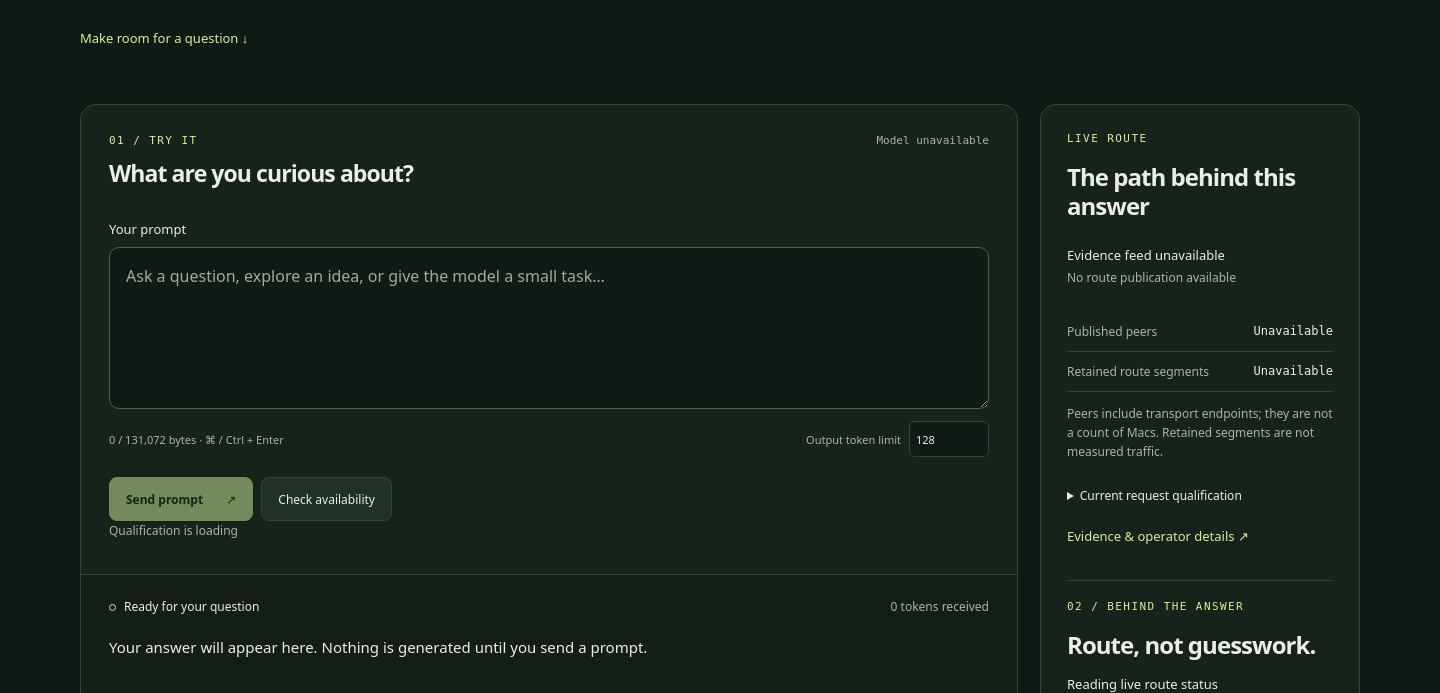
ConsumerDemoPage › does not invent cancellation success from an acknowledgement
The width and height of the screenshot is (1440, 693).
(page scrolled)
Replace the text in the text box labelled "Your prompt" with "A test-only prompt". click: (549, 328)
box: x1=109 y1=247 x2=989 y2=409
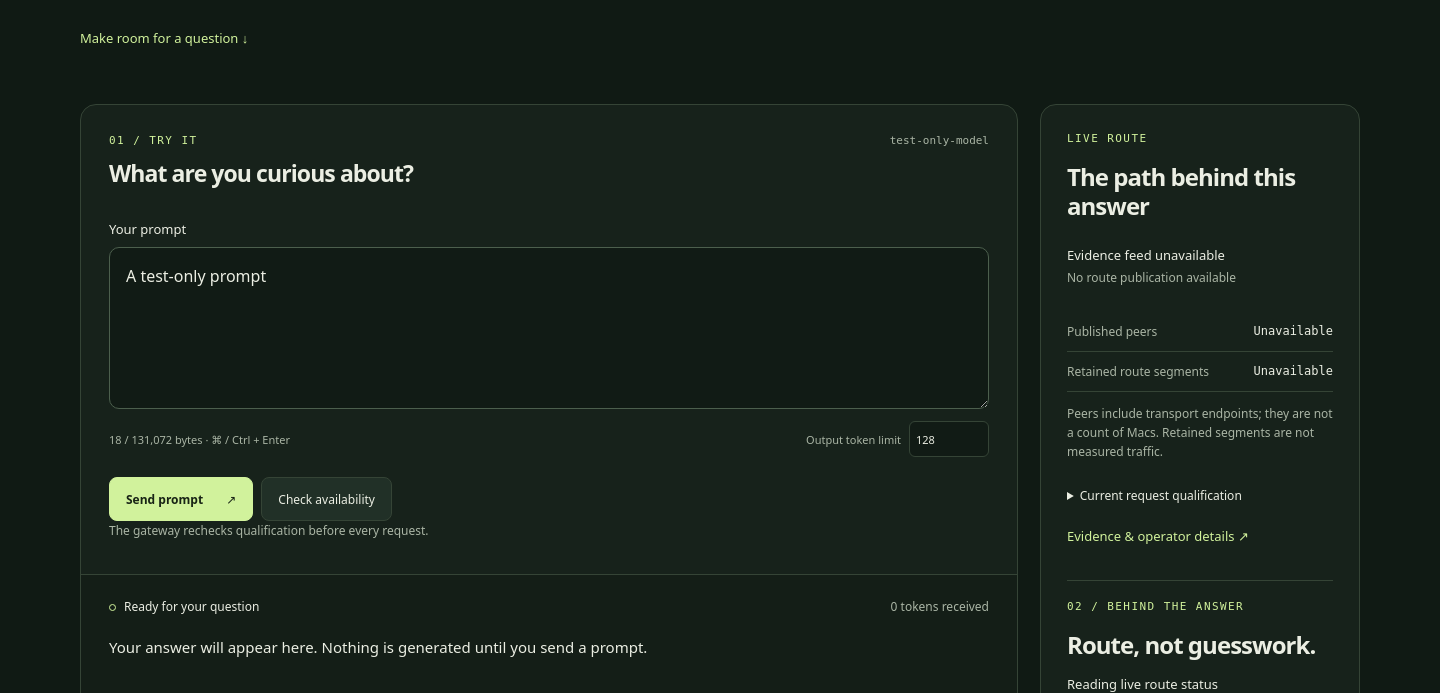
Check: the button "Send prompt ↗" is enabled
Click the button "Send prompt ↗". click: (181, 499)
box: x1=109 y1=477 x2=253 y2=521
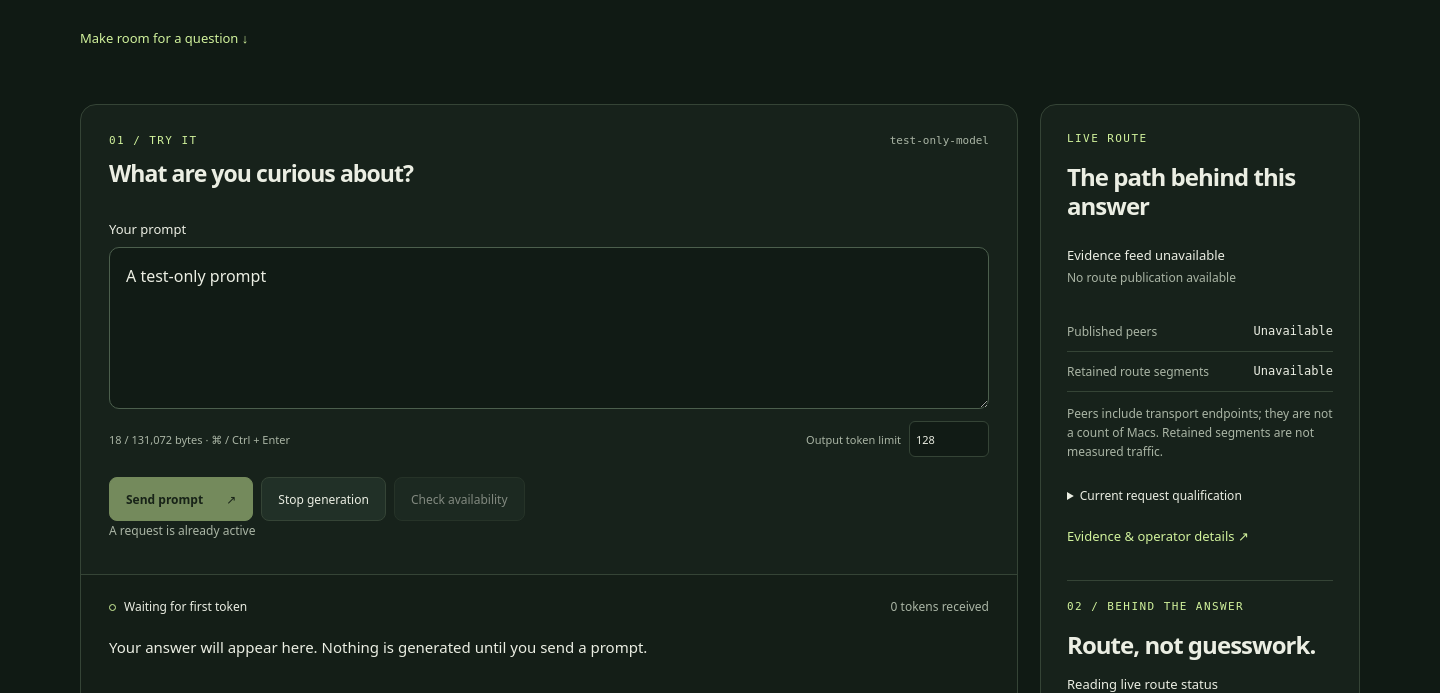
Check: the text "Waiting for first token" is shown, box x1=109 y1=597 x2=247 y2=616
Click the button "Stop generation". click: (324, 499)
box: x1=261 y1=477 x2=386 y2=521
(page scrolled)
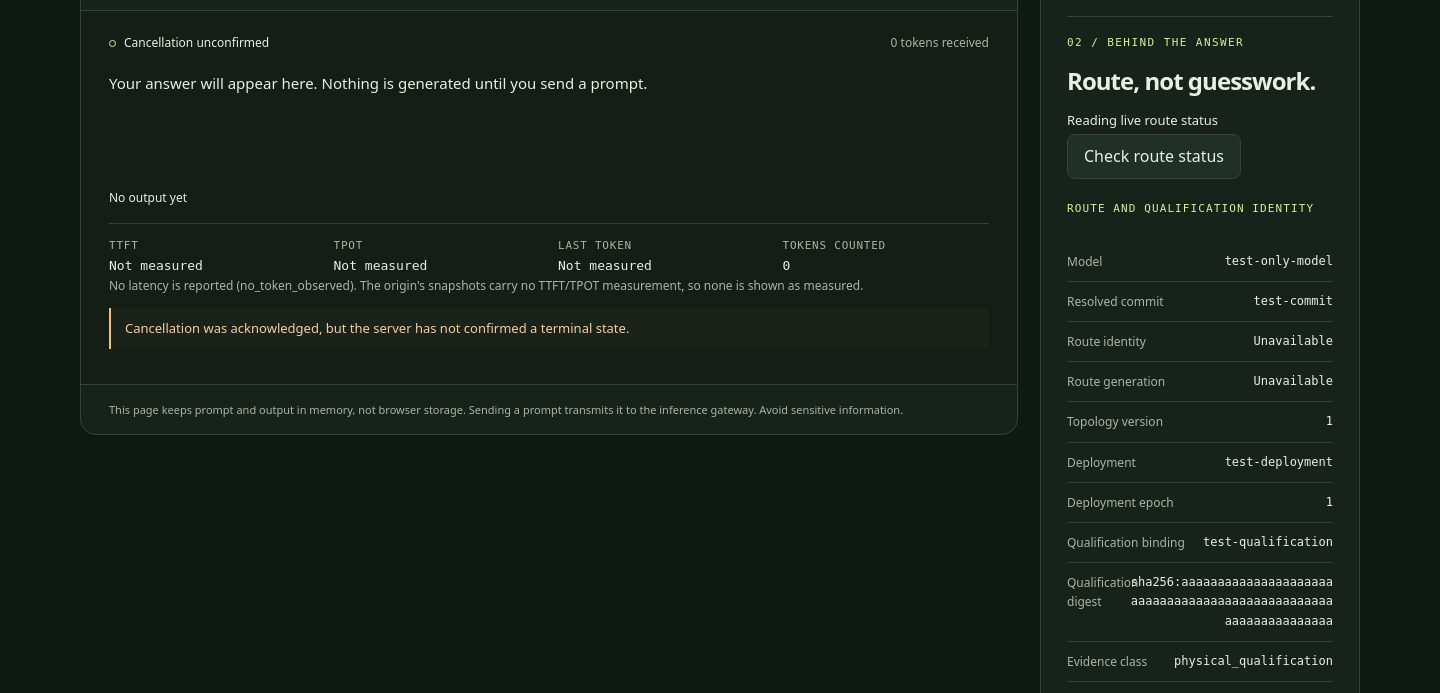
Check: the text "Cancellation unconfirmed" is shown, box x1=109 y1=33 x2=269 y2=52
Check: the text "server has not confirmed a terminal state" is shown, box x1=125 y1=319 x2=629 y2=337
